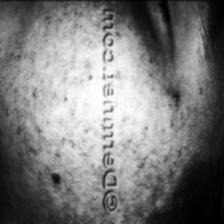Non-Cancerous Skin Condition: (24, 60, 102, 184)
